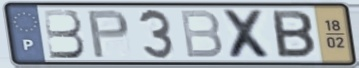3: (137, 7, 175, 61)
B: (270, 9, 318, 61), (41, 8, 88, 61), (177, 9, 225, 60)
P: (86, 8, 132, 60)
X: (220, 8, 277, 61)
